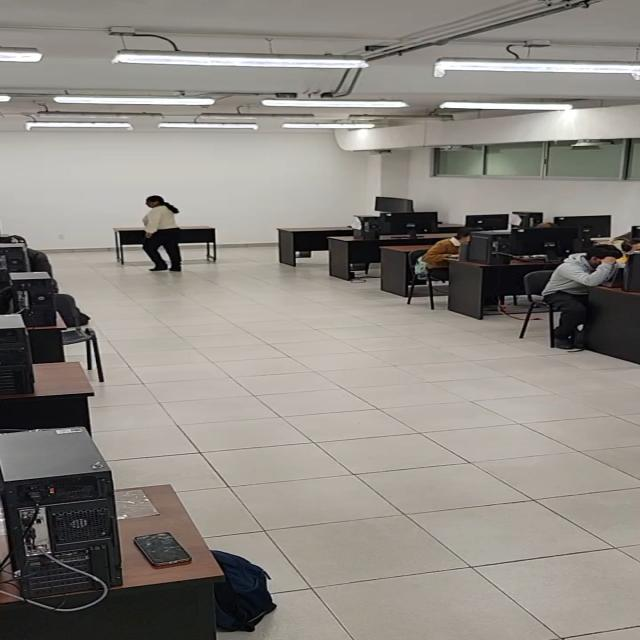Persona: (136, 189, 187, 275)
